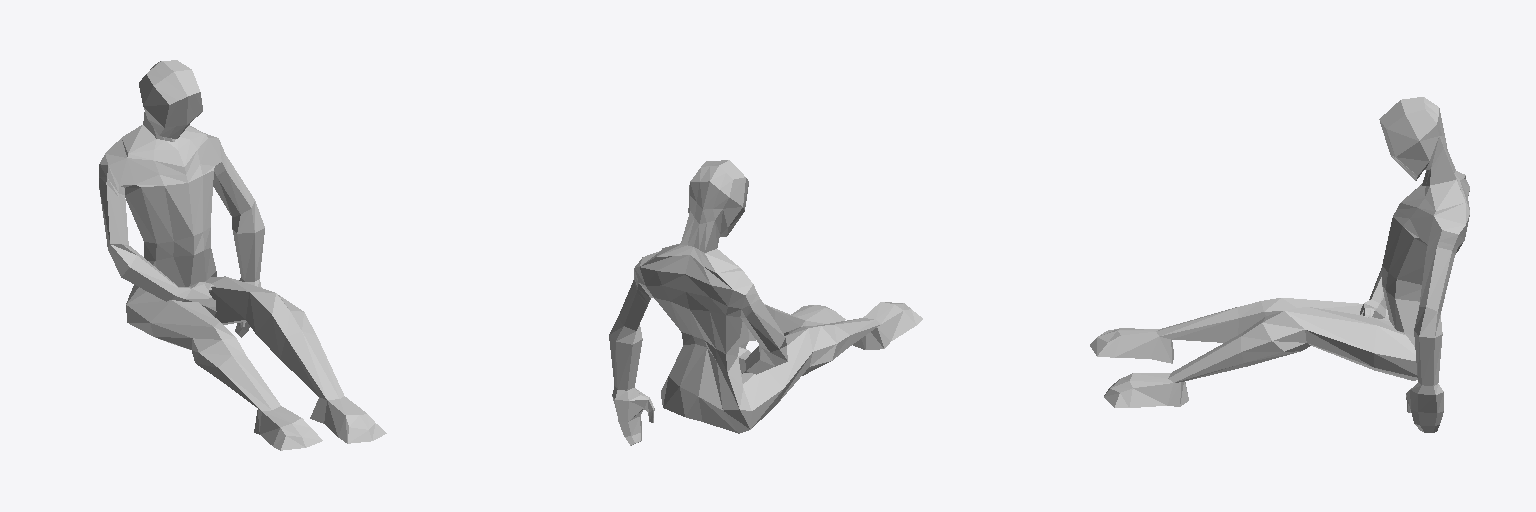
Rendered from dead_body_5.obj.
3 views of the same model, side by side, from view 1: azimuth 30°, elevation 25°; view 2: azimuth 150°, elevation 25°; view 3: azimuth 270°, elevation 25° (orthographic).
Visible parts, largest first — view 1: standard; view 2: standard; view 3: standard.
Boxes of the visible parts, x1=… form: standard: x1=99, y1=60, x2=386, y2=450; standard: x1=609, y1=160, x2=922, y2=445; standard: x1=1090, y1=97, x2=1469, y2=432.
Bounding box in the file's own units: 1.21 × 2.1 × 2.44.